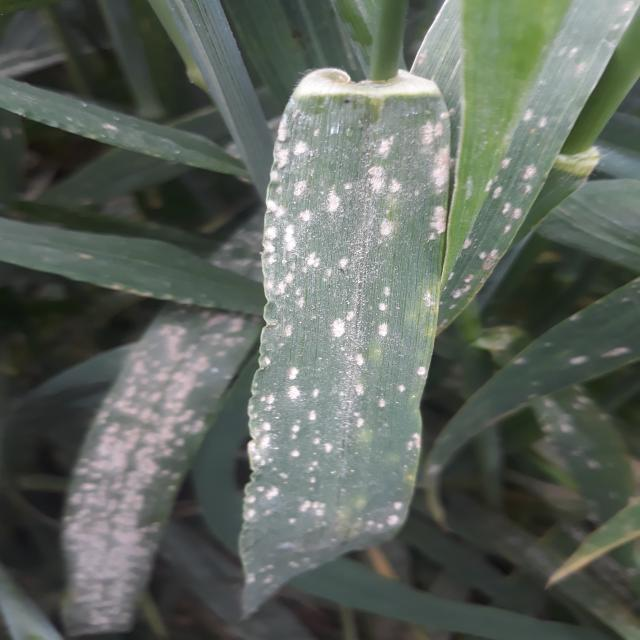powder_mildew: (228, 65, 460, 604), (466, 9, 639, 640), (0, 226, 251, 640), (4, 81, 216, 170)
